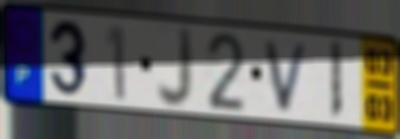1: (104, 23, 128, 104)
2: (204, 30, 247, 114)
3: (47, 15, 91, 101)
I: (328, 38, 345, 124)
J: (154, 24, 196, 112)
V: (263, 39, 313, 115)
